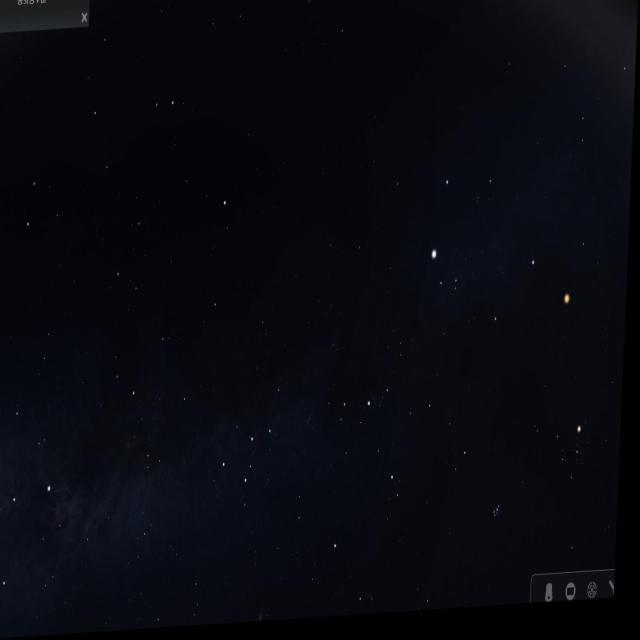cassiopeia: (218, 372, 297, 510)
pleiades: (494, 496, 506, 549)
